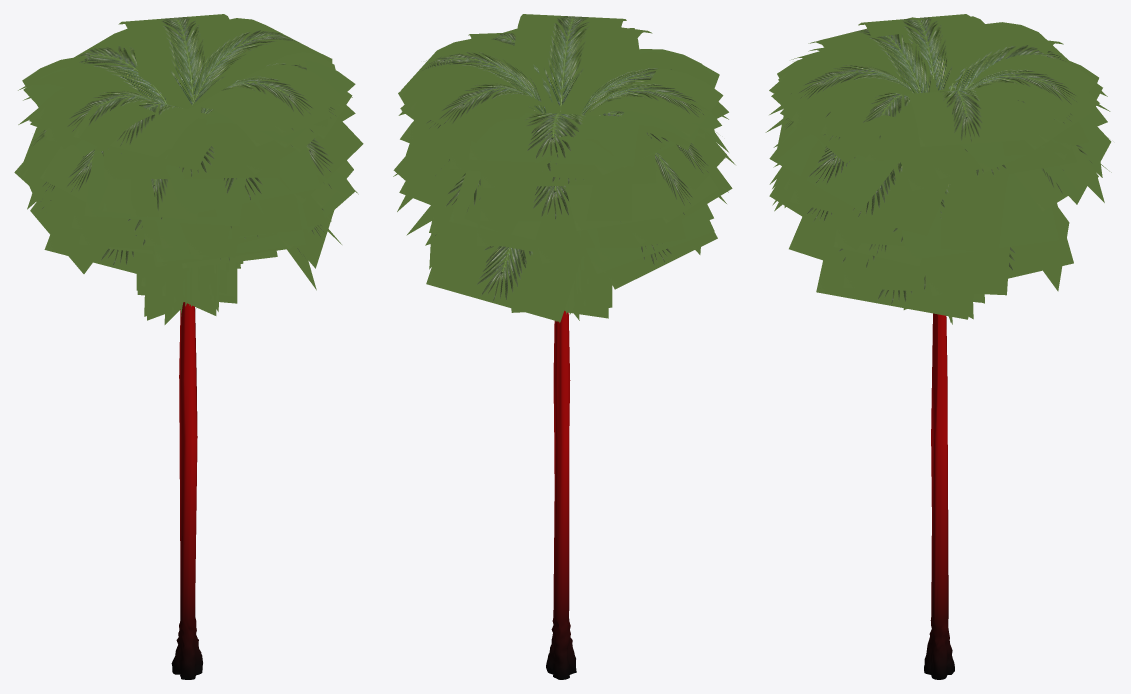
File: Palm_1_15.fbx
3 views of the same model, side by side, from view 1: azimuth 30°, elevation 25°; view 2: azimuth 150°, elevation 25°; view 3: azimuth 270°, elevation 25° (orthographic).
Parts seen in each view (by area): view 1: Palm_1_15; view 2: Palm_1_15; view 3: Palm_1_15.
Part boxes in pixels (x1=…): Palm_1_15: x1=14, y1=14, x2=363, y2=679; Palm_1_15: x1=393, y1=14, x2=735, y2=679; Palm_1_15: x1=765, y1=14, x2=1111, y2=679.
Size of the model in its own units: 1756 by 3410 by 1761.
